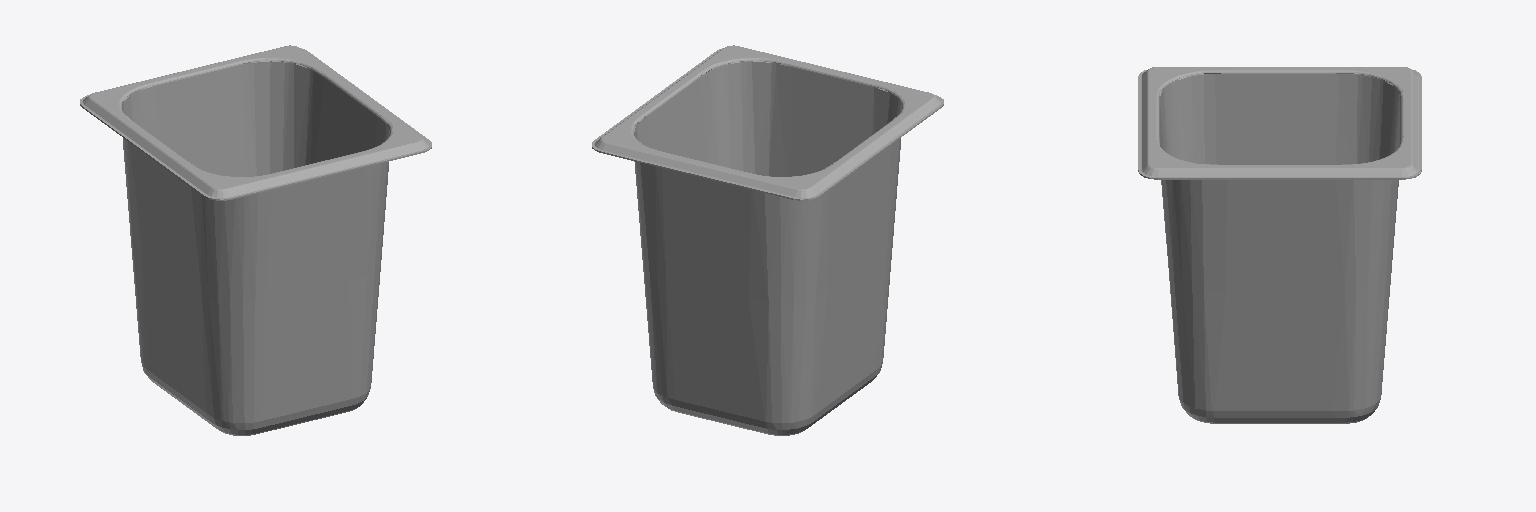
Rendered from CW1_Tank.obj.
The picture shows the model from 3 angles: view 1: azimuth 30°, elevation 25°; view 2: azimuth 150°, elevation 25°; view 3: azimuth 270°, elevation 25°; orthographic projection.
Visible parts, largest first — view 1: CW1S_MODEL; view 2: CW1S_MODEL; view 3: CW1S_MODEL.
Boxes of the visible parts, box(x1,y1,x2,y2) form: CW1S_MODEL: box(80, 45, 431, 435); CW1S_MODEL: box(592, 45, 943, 435); CW1S_MODEL: box(1138, 67, 1421, 423).
Size of the model in its own units: 162 by 190 by 176.